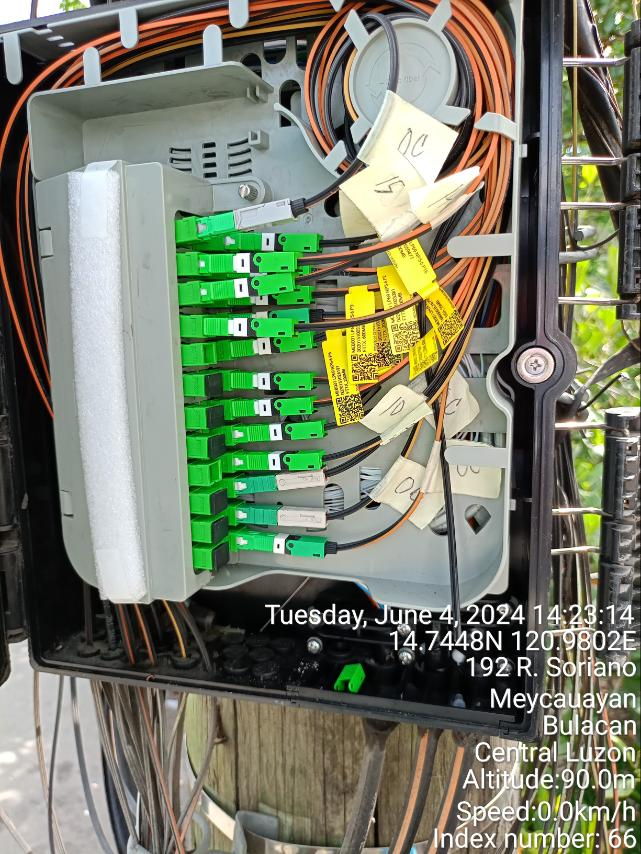no dust cap: (208, 459, 222, 485), (203, 343, 217, 364)
occupied: (195, 190, 313, 240), (199, 267, 313, 304), (235, 460, 337, 496), (232, 325, 345, 357), (236, 532, 348, 562), (197, 250, 315, 273), (225, 231, 341, 254), (225, 284, 341, 307), (236, 505, 342, 530), (232, 417, 345, 440), (225, 262, 341, 284), (229, 307, 345, 329), (233, 447, 339, 471), (201, 318, 311, 339), (229, 369, 337, 390), (232, 395, 335, 417)
vacant: (214, 540, 230, 573), (205, 372, 224, 398), (212, 516, 228, 545), (212, 487, 227, 516), (207, 404, 225, 428), (209, 433, 226, 458)
